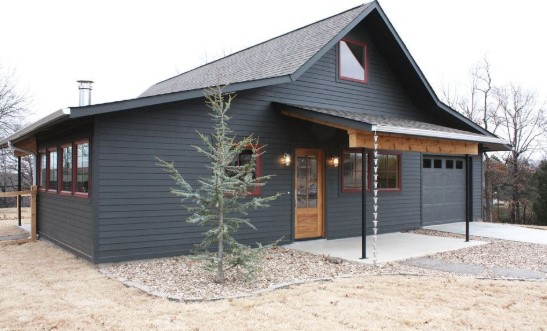Tin-shade House: (22, 9, 509, 276)
